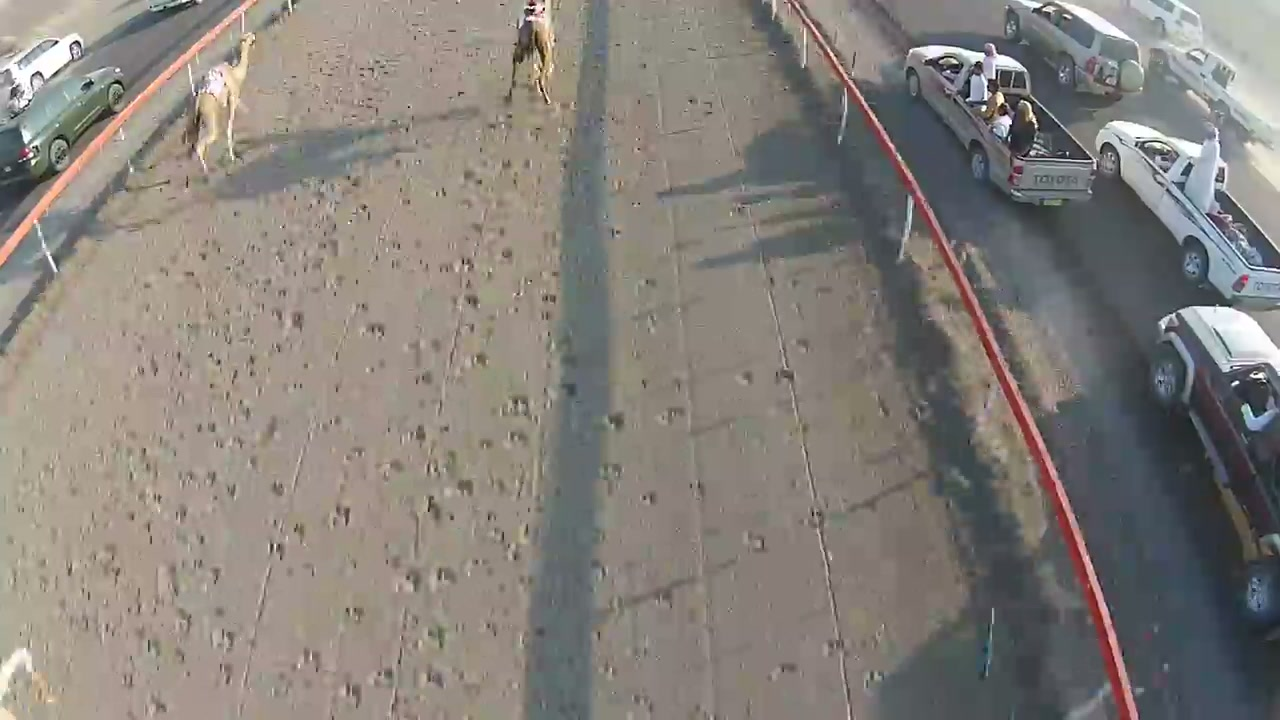animal_foot_print: (368, 97, 568, 708)
